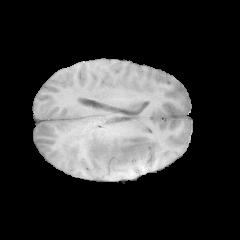glioma: (62, 114, 148, 170)
